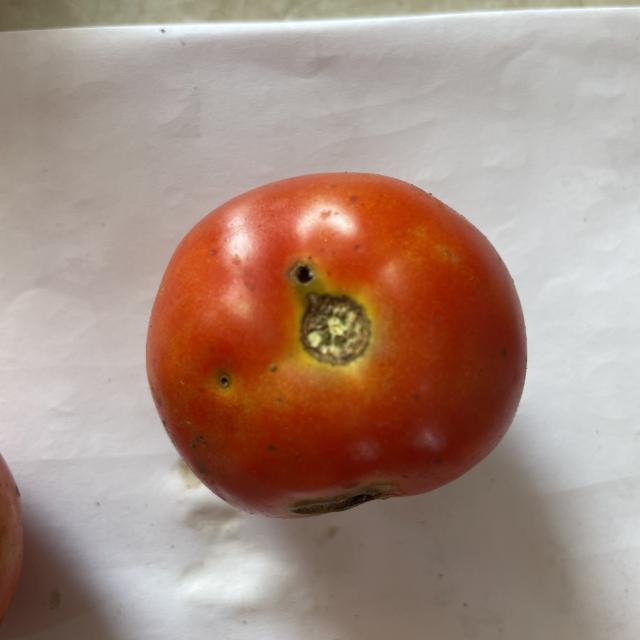fruitworm_bore: (268, 249, 331, 301), (204, 356, 245, 397)
